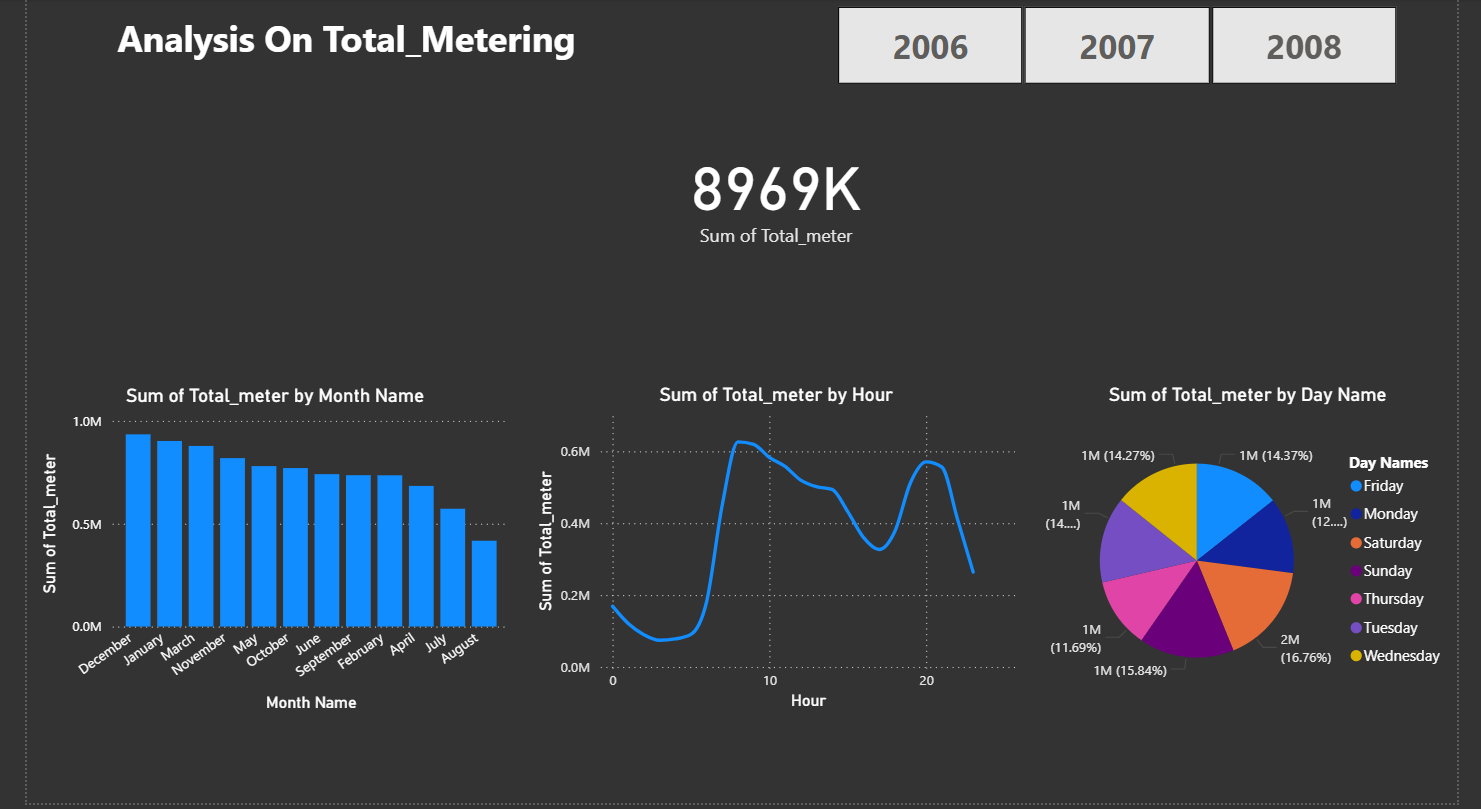

Layout of this report page (visuals, bound fields, positions):
{"tool":"powerbi","page":{"name":"Total_Metering","canvas":[1280,720],"ordinal":4},"visuals":[{"type":"textbox","box":[50,7.3,471.8,68.2],"z":0},{"type":"slicer","fields":{"Values":["household_power_consumption.Year"]},"box":[700,0,550,82.7],"z":1000},{"type":"card","fields":{"Values":["Sum(household_power_consumption.Total_meter)"]},"box":[450.9,98.2,439.1,150],"z":2000},{"type":"columnChart","fields":{"Category":["household_power_consumption.Month Name"],"Y":["Sum(household_power_consumption.Total_meter)"]},"box":[7.3,344.5,430,298.2],"z":3000},{"type":"lineChart","fields":{"Category":["household_power_consumption.Hour"],"Y":["Sum(household_power_consumption.Total_meter)"]},"box":[450.9,343.6,439.1,297.3],"z":4000},{"type":"pieChart","fields":{"Series":["household_power_consumption.Day Name"],"Y":["Sum(household_power_consumption.Total_meter)"]},"box":[906.4,343.6,373.6,299.1],"z":5000}]}

Visuals, with their boxes in screenshot pixels (x1, y1, x2, y2), scaled from the page's 1280x720 canvas onto the 1481x809 screenshot:
textbox: left=58, top=8, right=604, bottom=85
slicer - household_power_consumption.Year: left=810, top=0, right=1446, bottom=93
card - Sum(household_power_consumption.Total_meter): left=522, top=110, right=1030, bottom=279
columnChart - household_power_consumption.Month Name x Sum(household_power_consumption.Total_meter): left=8, top=387, right=506, bottom=722
lineChart - household_power_consumption.Hour x Sum(household_power_consumption.Total_meter): left=522, top=386, right=1030, bottom=720
pieChart - household_power_consumption.Day Name x Sum(household_power_consumption.Total_meter): left=1049, top=386, right=1480, bottom=722
